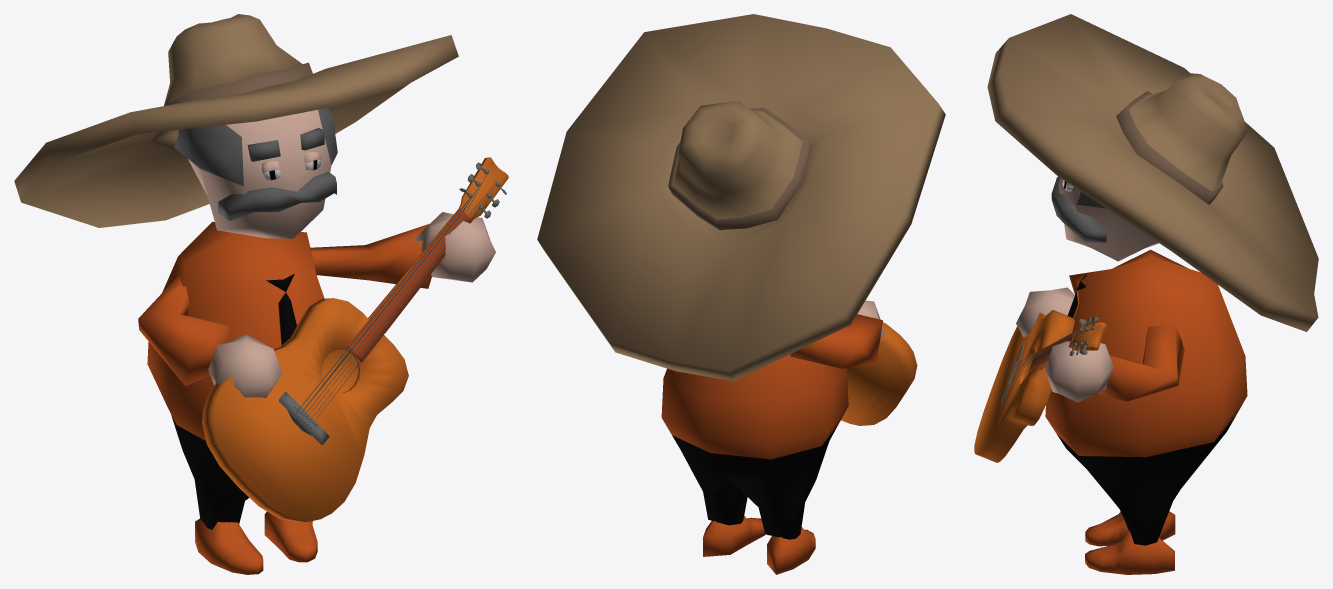
File: dayi.fbx
The picture shows the model from 3 angles, left to right: view 1: azimuth 30°, elevation 25°; view 2: azimuth 150°, elevation 25°; view 3: azimuth 270°, elevation 25°; orthographic projection. The views are drawn at different scales.
Visible parts, largest first — view 1: Bus.003, head shake.001; view 2: head shake.001, Bus.003; view 3: head shake.001, Bus.003.
Part boxes in pixels (x1=…): Bus.003: x1=138, y1=157, x2=508, y2=574; head shake.001: x1=14, y1=14, x2=458, y2=238; head shake.001: x1=537, y1=14, x2=945, y2=381; Bus.003: x1=661, y1=300, x2=917, y2=574; head shake.001: x1=987, y1=14, x2=1318, y2=331; Bus.003: x1=974, y1=249, x2=1247, y2=574.
Size of the model in its own units: 28.26 by 33.72 by 21.91.
